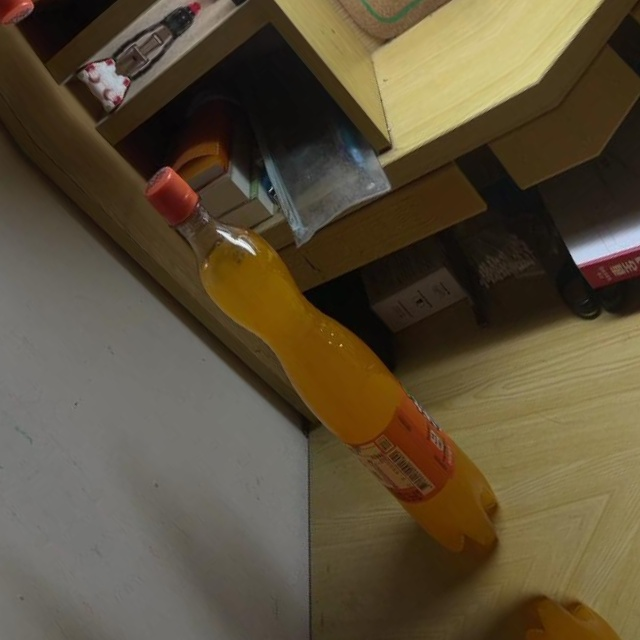Fanta: (123, 134, 524, 585)
